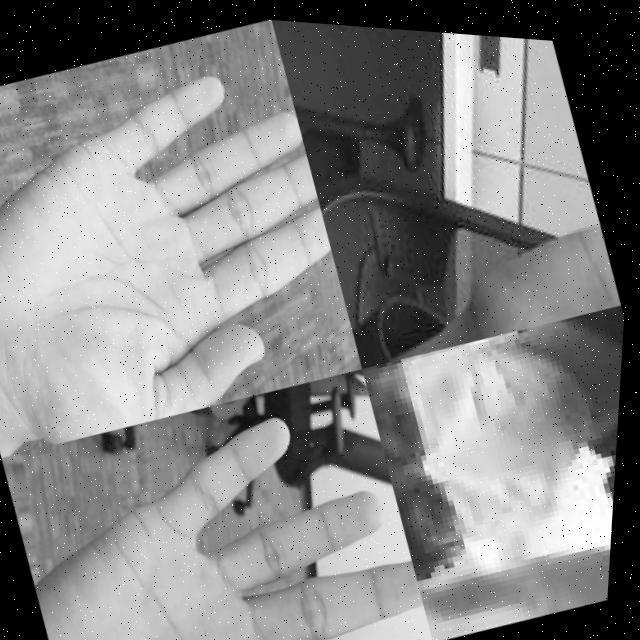no-gloves: (0, 33, 379, 478), (5, 366, 451, 640), (388, 388, 623, 640), (409, 135, 631, 349)
